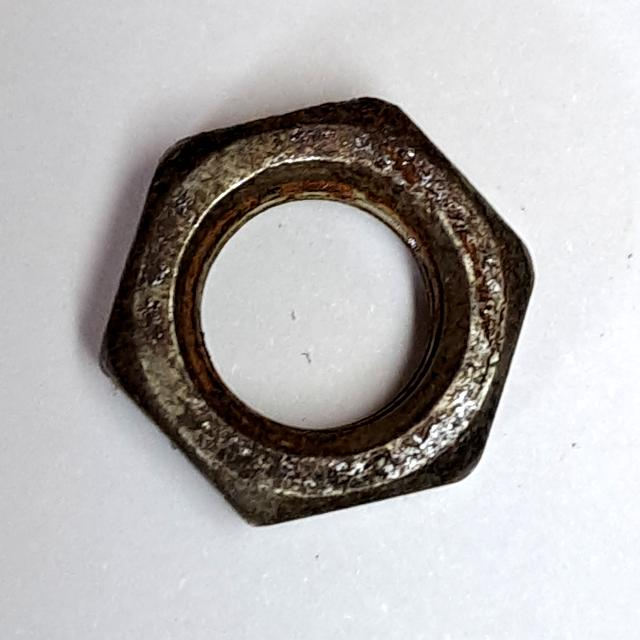Rust: (85, 87, 544, 539)
